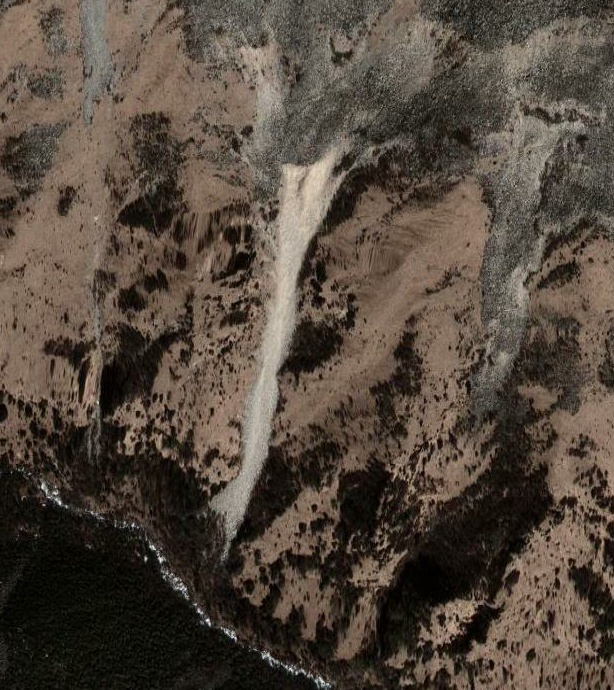slope: (211, 140, 358, 543)
